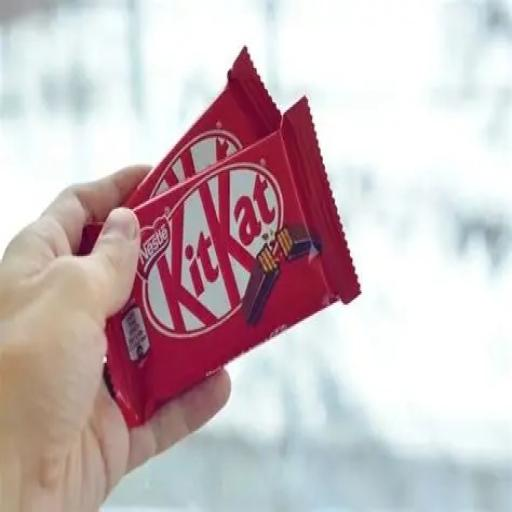kitkat: (87, 115, 371, 382)
